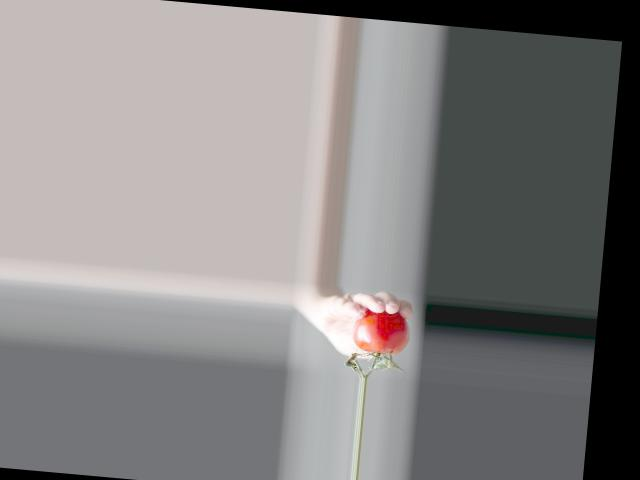tomato: (351, 307, 411, 357)
